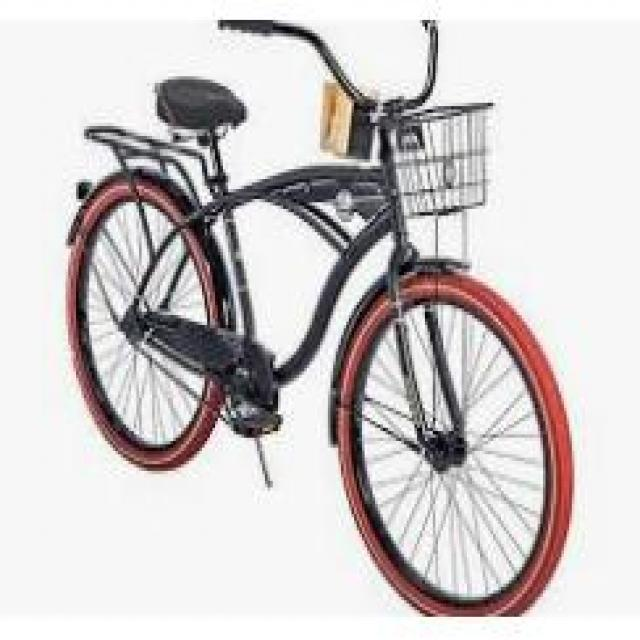bicycle: (64, 38, 544, 582)
